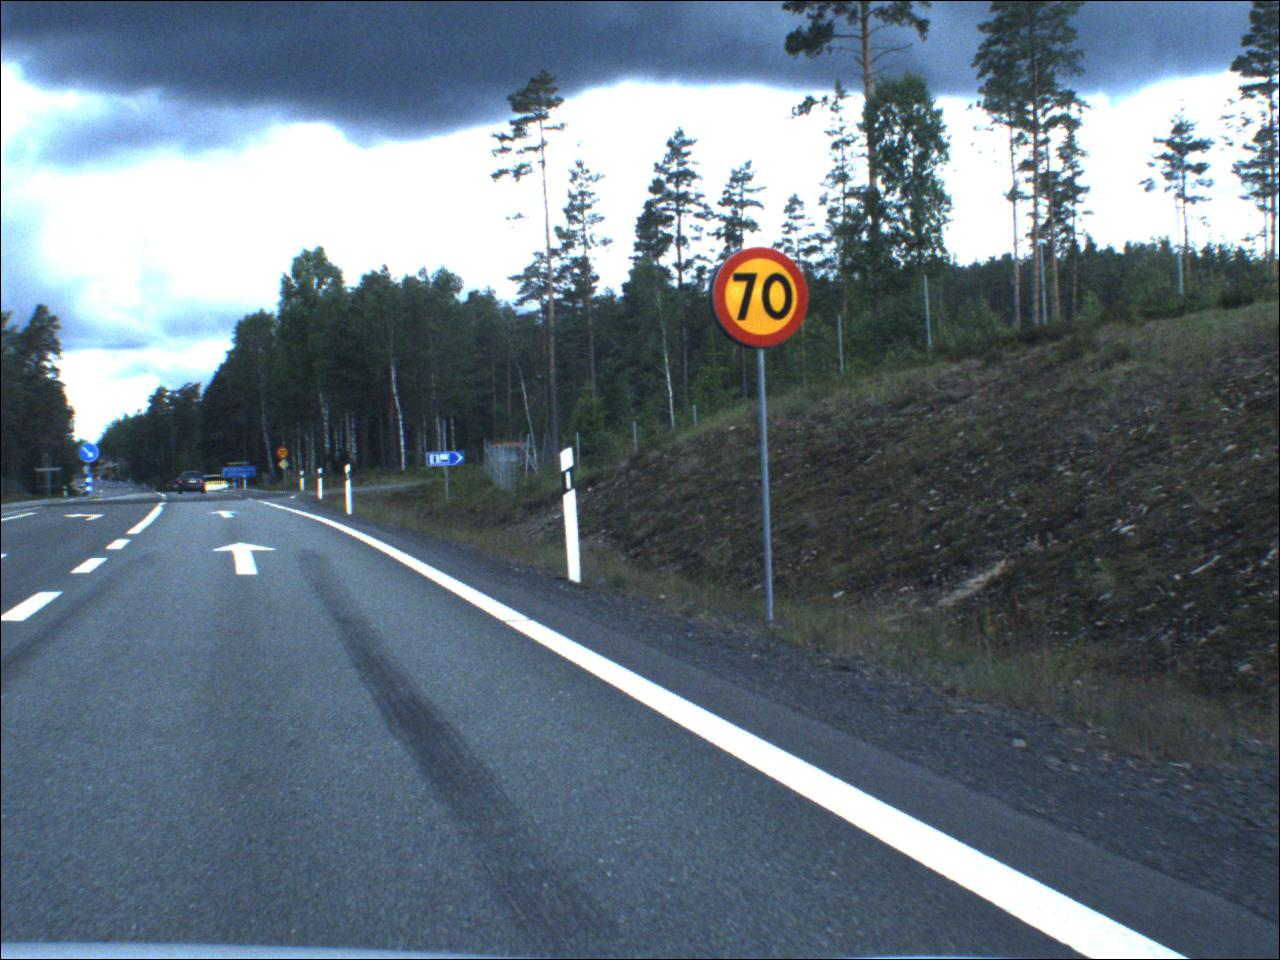70_SIGN: (713, 249, 813, 346), (277, 449, 291, 461)
PASS_RIGHT_SIDE: (80, 445, 102, 465)
PRIORITY_ROAD: (280, 461, 293, 472)
